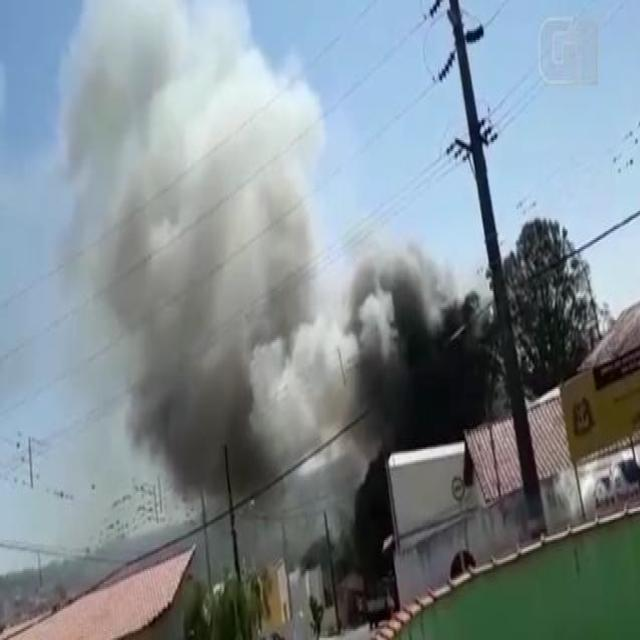Smoke: (54, 31, 469, 503)
